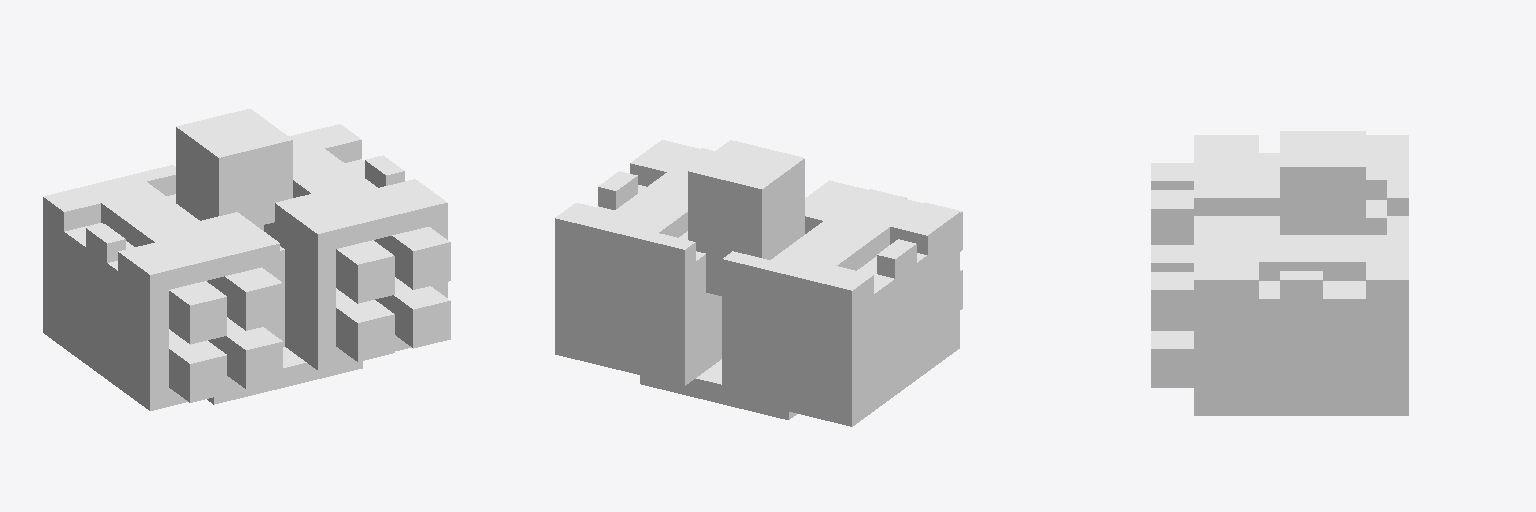
File: tank_turret_rocket.obj
3 views of the same model, side by side, from view 1: azimuth 30°, elevation 25°; view 2: azimuth 150°, elevation 25°; view 3: azimuth 270°, elevation 25° (orthographic).
Visible parts, largest first — view 1: object 1; view 2: object 1; view 3: object 1.
Boxes of the visible parts, x1,y1,x2,y2 form: object 1: [43, 109, 450, 410]; object 1: [555, 140, 962, 426]; object 1: [1151, 131, 1408, 415].
Bounding box in the file's own units: 1.6 × 1.1 × 1.2.